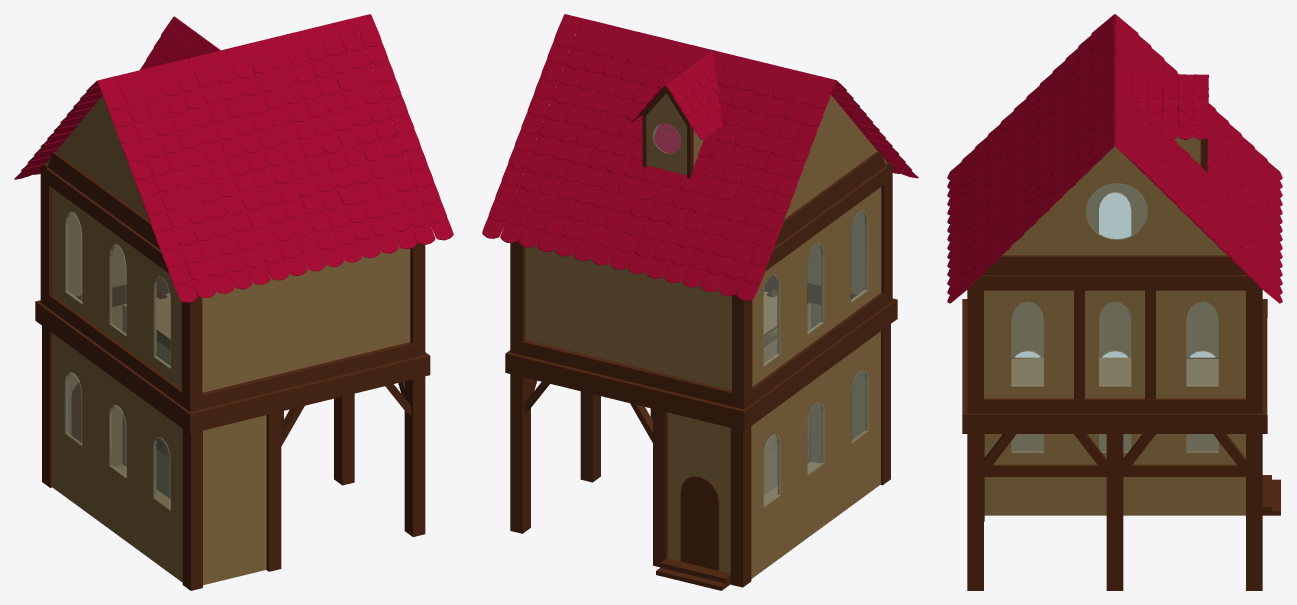
The picture shows the model from 3 angles, left to right: view 1: azimuth 30°, elevation 25°; view 2: azimuth 150°, elevation 25°; view 3: azimuth 270°, elevation 25°; orthographic projection.
Visible parts, largest first — view 1: House5; view 2: House5; view 3: House5.
Boxes of the visible parts, x1,y1,x2,y2 form: House5: [14, 14, 453, 590]; House5: [482, 14, 918, 590]; House5: [947, 14, 1282, 590].
Size of the model in its own units: 435 by 698 by 467.
